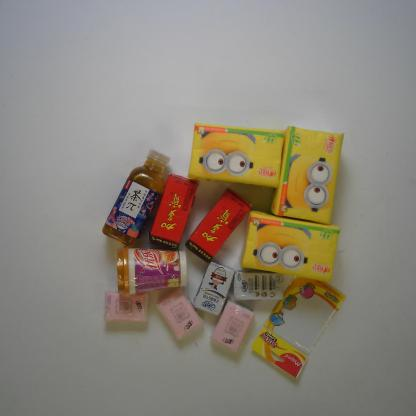Drink: (98, 146, 173, 251), (183, 184, 256, 266), (143, 170, 201, 252)
Instant Drink: (112, 242, 190, 300)
Milk: (190, 258, 237, 317), (232, 269, 286, 302)
Stationery: (250, 270, 346, 382)
Tissue: (268, 123, 347, 228), (237, 207, 342, 286), (185, 121, 286, 190), (210, 296, 256, 353), (154, 288, 204, 340), (104, 289, 150, 324)
